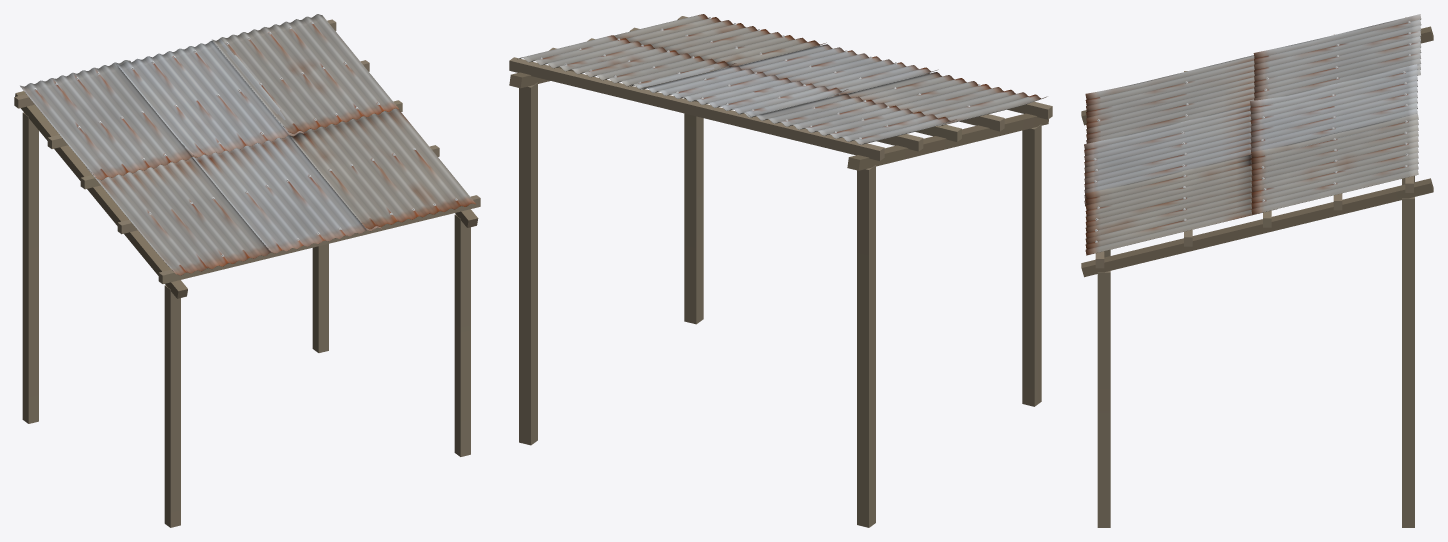
The model's file is tin_panel.glb.
The picture shows the model from 3 angles, left to right: view 1: azimuth 30°, elevation 25°; view 2: azimuth 150°, elevation 25°; view 3: azimuth 270°, elevation 25°; orthographic projection. The views are drawn at different scales.
Parts seen in each view (by area): view 1: hb_tin, hb_wood; view 2: hb_wood, hb_tin; view 3: hb_tin, hb_wood.
Part boxes in pixels (x1,y1,x2,y2): hb_tin: [20, 14, 475, 275]; hb_wood: [14, 19, 480, 527]; hb_wood: [509, 16, 1052, 527]; hb_tin: [517, 14, 1047, 144]; hb_tin: [1084, 14, 1421, 255]; hb_wood: [1081, 17, 1433, 527].
Size of the model in its own units: 2.29 by 2.29 by 2.04.
